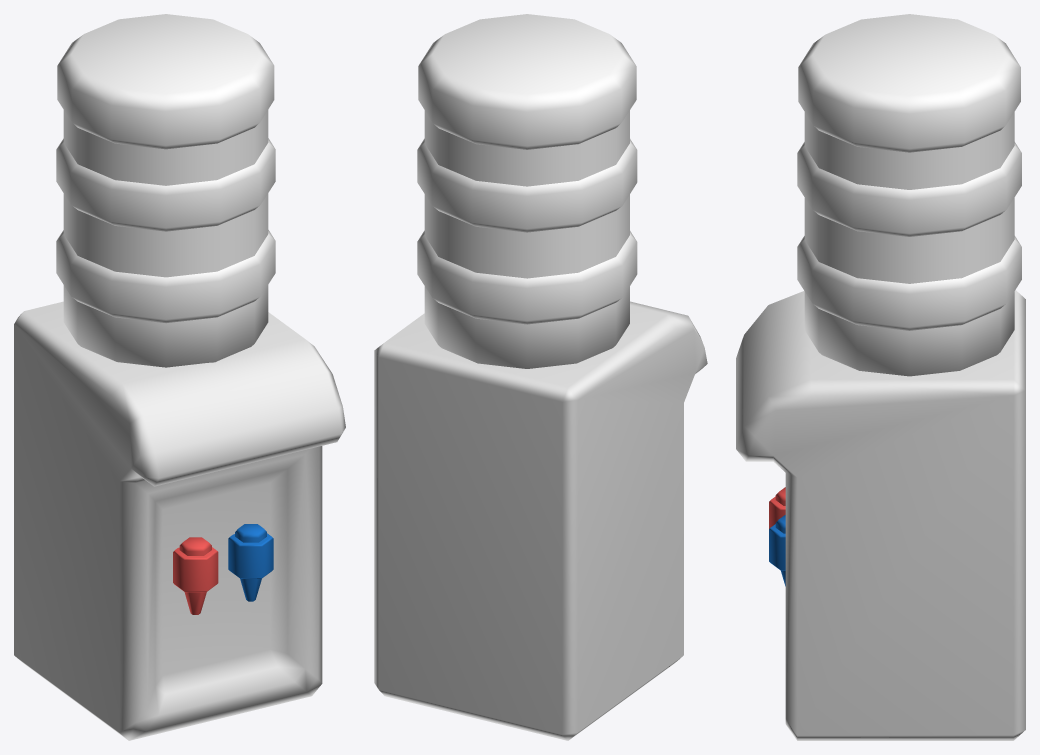
File: electronics_010.fbx
3 views of the same model, side by side, from view 1: azimuth 30°, elevation 25°; view 2: azimuth 150°, elevation 25°; view 3: azimuth 270°, elevation 25° (orthographic). The views are drawn at different scales.
Visible parts, largest first — view 1: electronics_010; view 2: electronics_010; view 3: electronics_010.
Boxes of the visible parts, <box> form: electronics_010: <box>14,14,345,740</box>; electronics_010: <box>374,14,707,740</box>; electronics_010: <box>736,14,1025,740</box>.
Size of the model in its own units: 39.75 by 47.93 by 117.
